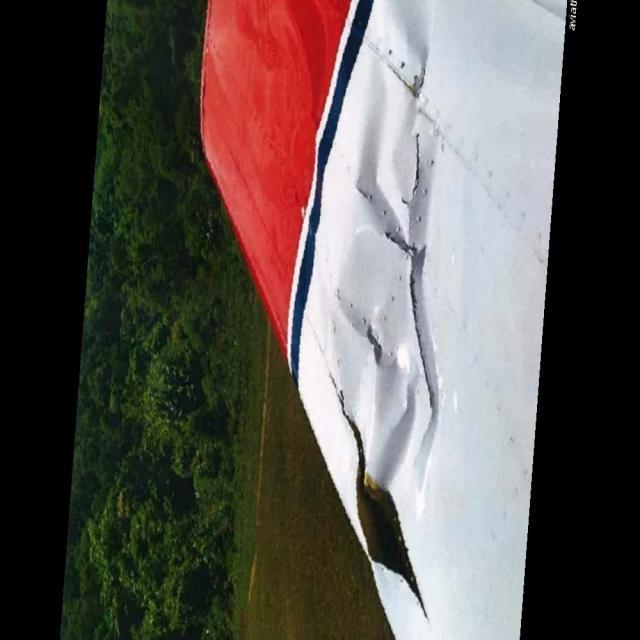crack: (390, 250, 440, 415), (404, 135, 421, 194), (357, 178, 374, 215)
